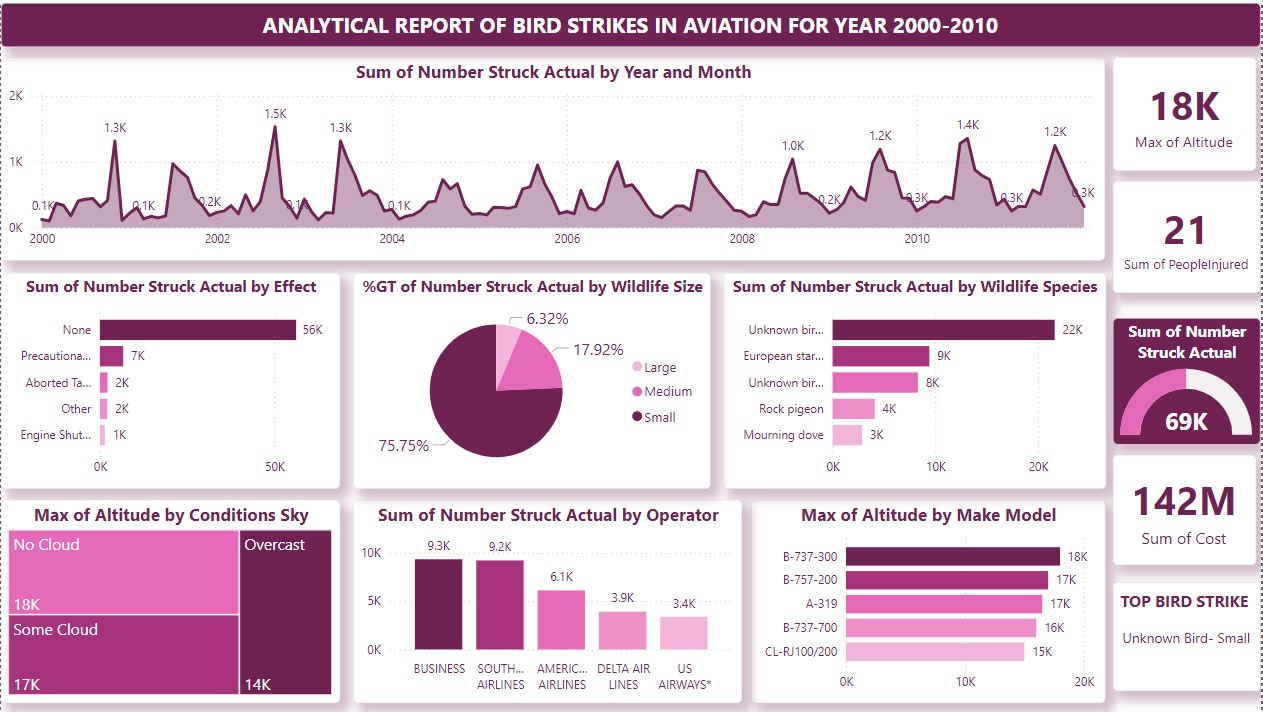

The dashboard page shown, as its layout file describes it:
{"tool":"powerbi","page":{"name":"DASHBOARD","canvas":[1280,720],"ordinal":0},"visuals":[{"type":"areaChart","title":"Sum of Number Struck Actual by Year and Month","fields":{"Category":["Bird_strikes.FlightDate.Variation.Date Hierarchy.Year","Bird_strikes.FlightDate.Variation.Date Hierarchy.Month"],"Y":["Sum(Bird_strikes.NumberStruckActual)"]},"box":[0,55.8,1121.9,206.5],"z":0},{"type":"barChart","title":"Sum of Number Struck Actual by Effect","fields":{"Category":["Bird_strikes.Effect"],"Y":["Sum(Bird_strikes.NumberStruckActual)"]},"box":[0,273.5,344.7,219.1],"z":1},{"type":"barChart","title":"Max of Altitude by Make Model","fields":{"Category":["Bird_strikes.MakeModel"],"Y":["Max(Bird_strikes.Altitude)"]},"box":[761.9,505.1,360,206.5],"z":2},{"type":"barChart","title":"Sum of Number Struck Actual by Wildlife Species","fields":{"Category":["Bird_strikes.WildlifeSpecies"],"Y":["Sum(Bird_strikes.NumberStruckActual)"]},"box":[732.6,273.5,389.3,219.1],"z":3},{"type":"treemap","title":"Max of Altitude by Conditions Sky","fields":{"Group":["Bird_strikes.ConditionsSky"],"Values":["Max(Bird_strikes.Altitude)"]},"box":[0,505.1,344.7,206.5],"z":4},{"type":"columnChart","title":"Sum of Number Struck Actual by Operator","fields":{"Y":["Sum(Bird_strikes.NumberStruckActual)"],"Category":["Bird_strikes.Operator"]},"box":[357.2,505.1,394.9,206.5],"z":5},{"type":"pieChart","title":"%GT of Number Struck Actual by Wildlife Size","fields":{"Series":["Bird_strikes.WildlifeSize"],"Y":["Sum(Bird_strikes.NumberStruckActual)"]},"box":[357.2,273.5,362.8,219.1],"z":6},{"type":"textbox","box":[0,0,1279.5,44.7],"z":7},{"type":"card","fields":{"Values":["Max(Bird_strikes.Altitude)"]},"box":[1129.6,56,145.4,115.1],"z":8},{"type":"card","fields":{"Values":["Sum(Bird_strikes.PeopleInjured)"]},"box":[1129.6,181.7,149.9,113.6],"z":9},{"type":"gauge","title":"Sum of Number Struck Actual","fields":{"Y":["Sum(Bird_strikes.NumberStruckActual)"]},"box":[1129.6,319.5,149.9,128.7],"z":10},{"type":"card","fields":{"Values":["Sum(Bird_strikes.Cost)"]},"box":[1129.6,458.8,145.4,112.1],"z":11},{"type":"textbox","box":[1129.6,589,149.9,110.5],"z":12}]}

Visuals, with their boxes in screenshot pixels (x1, y1, x2, y2), scaled from the page's 1280x720 canvas onto the 1263x712 screenshot:
"Sum of Number Struck Actual by Year and Month" areaChart: bbox(0, 55, 1107, 259)
"Sum of Number Struck Actual by Effect" barChart: bbox(0, 270, 340, 487)
"Max of Altitude by Make Model" barChart: bbox(752, 499, 1107, 704)
"Sum of Number Struck Actual by Wildlife Species" barChart: bbox(723, 270, 1107, 487)
"Max of Altitude by Conditions Sky" treemap: bbox(0, 499, 340, 704)
"Sum of Number Struck Actual by Operator" columnChart: bbox(352, 499, 742, 704)
"%GT of Number Struck Actual by Wildlife Size" pieChart: bbox(352, 270, 710, 487)
textbox: bbox(0, 0, 1262, 44)
card - Max(Bird_strikes.Altitude): bbox(1115, 55, 1258, 169)
card - Sum(Bird_strikes.PeopleInjured): bbox(1115, 180, 1262, 292)
"Sum of Number Struck Actual" gauge: bbox(1115, 316, 1262, 443)
card - Sum(Bird_strikes.Cost): bbox(1115, 454, 1258, 565)
textbox: bbox(1115, 582, 1262, 692)
